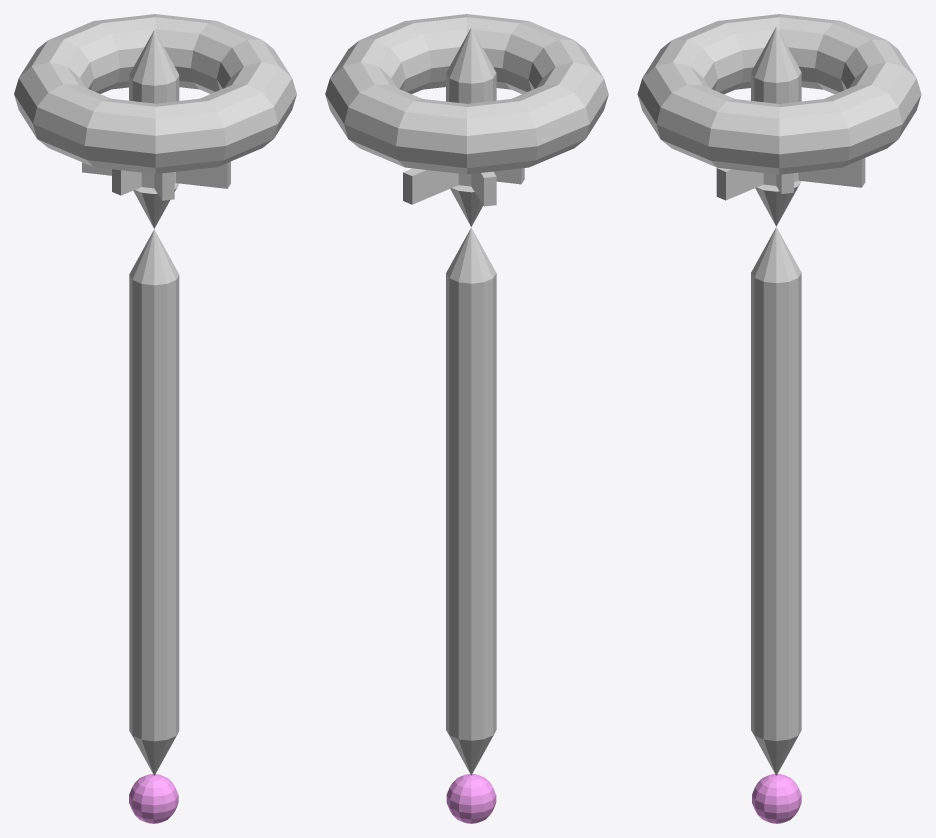
The model's file is PendulumClock.glb.
3 renders of one model, left to right at view 1: azimuth 30°, elevation 25°; view 2: azimuth 150°, elevation 25°; view 3: azimuth 270°, elevation 25°, orthographic.
Parts seen in each view (by area): view 1: node_MeshObject-750446336-PolyPaper21, node_MeshObject1976382080-PolyGem25; view 2: node_MeshObject-750446336-PolyPaper21, node_MeshObject1976382080-PolyGem25; view 3: node_MeshObject-750446336-PolyPaper21, node_MeshObject1976382080-PolyGem25.
Part boxes in pixels (box(x1,y1,x2,y2)): node_MeshObject-750446336-PolyPaper21: box(14, 14, 296, 775); node_MeshObject1976382080-PolyGem25: box(129, 774, 178, 823); node_MeshObject-750446336-PolyPaper21: box(325, 14, 608, 775); node_MeshObject1976382080-PolyGem25: box(446, 774, 496, 823); node_MeshObject-750446336-PolyPaper21: box(637, 14, 921, 775); node_MeshObject1976382080-PolyGem25: box(752, 774, 801, 823).
Bounding box in the file's own units: 0.45 × 1.39 × 0.45.
